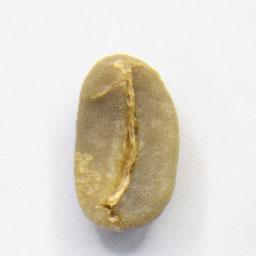longberry: (67, 49, 184, 232)
